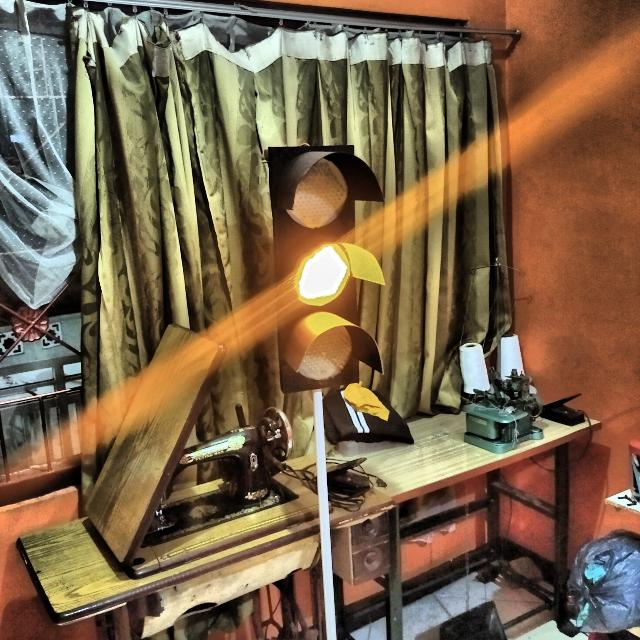yellow: (269, 145, 382, 391)
